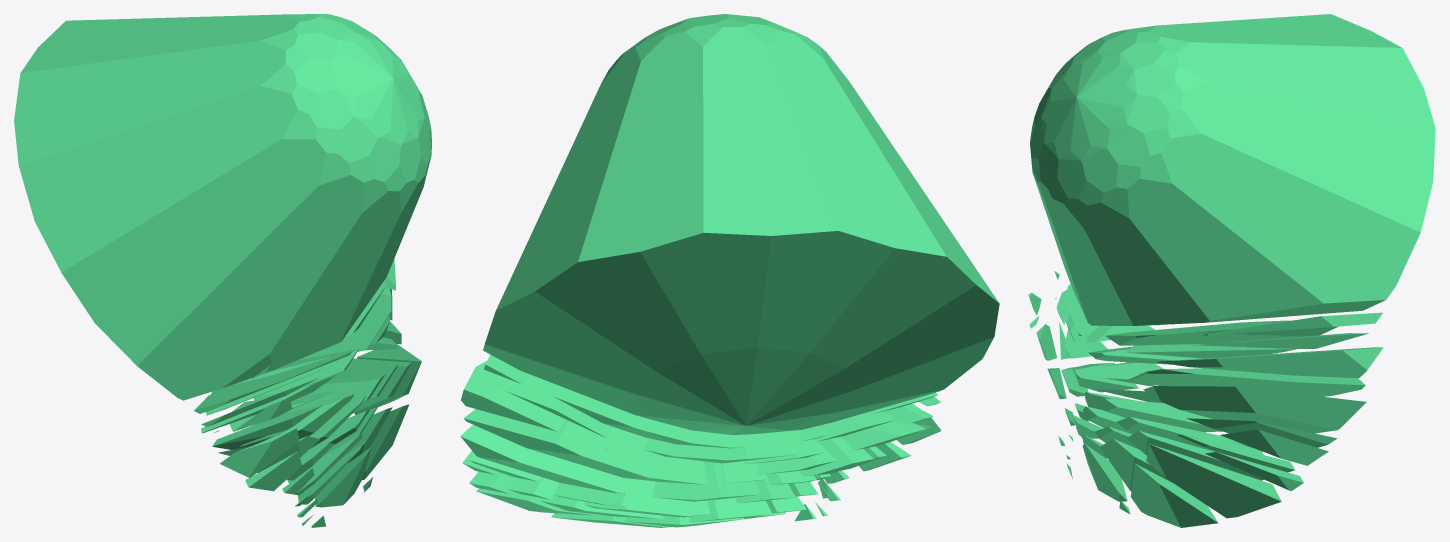
File: gem_610921.gltf
3 views of the same model, side by side, from view 1: azimuth 30°, elevation 25°; view 2: azimuth 150°, elevation 25°; view 3: azimuth 270°, elevation 25° (orthographic). The views are drawn at different scales.
Size of the model in its own units: 1.8 by 2 by 1.63.
